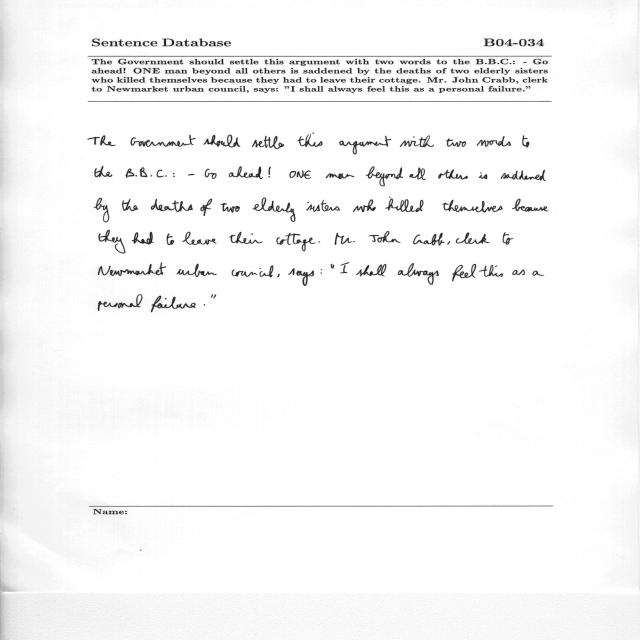word: (253, 198, 296, 222), (339, 136, 391, 155), (98, 262, 166, 276), (398, 263, 439, 285), (131, 135, 196, 147), (443, 200, 503, 213), (366, 167, 403, 187), (151, 296, 196, 312), (99, 295, 143, 311), (277, 233, 316, 251), (99, 230, 125, 254), (385, 197, 424, 212), (151, 199, 193, 212), (177, 264, 217, 277), (232, 266, 274, 278), (501, 170, 546, 181), (204, 135, 241, 148), (512, 199, 548, 212), (288, 268, 314, 286), (182, 232, 217, 245), (126, 167, 167, 178), (229, 166, 263, 179), (252, 136, 284, 149), (413, 233, 445, 246), (400, 136, 434, 148), (306, 200, 340, 212), (229, 232, 263, 244), (452, 264, 476, 281), (456, 232, 489, 244), (476, 136, 511, 147), (369, 231, 401, 243), (94, 198, 109, 223), (297, 133, 323, 147), (356, 264, 386, 276), (88, 136, 116, 147), (438, 170, 468, 180), (479, 265, 503, 277), (353, 200, 376, 212), (132, 232, 154, 244), (335, 233, 355, 245), (409, 168, 426, 180), (201, 199, 213, 216), (290, 170, 312, 179), (122, 199, 138, 211), (95, 166, 112, 177), (446, 138, 466, 147), (220, 203, 240, 212), (326, 174, 354, 180), (503, 232, 513, 245), (205, 169, 217, 179), (340, 263, 349, 273), (523, 136, 530, 148), (167, 233, 174, 245), (512, 269, 525, 275), (533, 271, 545, 276), (479, 172, 487, 179), (268, 167, 271, 177), (331, 264, 334, 269), (211, 295, 216, 298), (447, 241, 450, 245), (321, 269, 323, 274), (277, 274, 280, 277), (173, 173, 175, 177), (188, 174, 194, 175), (318, 242, 320, 243), (204, 304, 205, 306)
